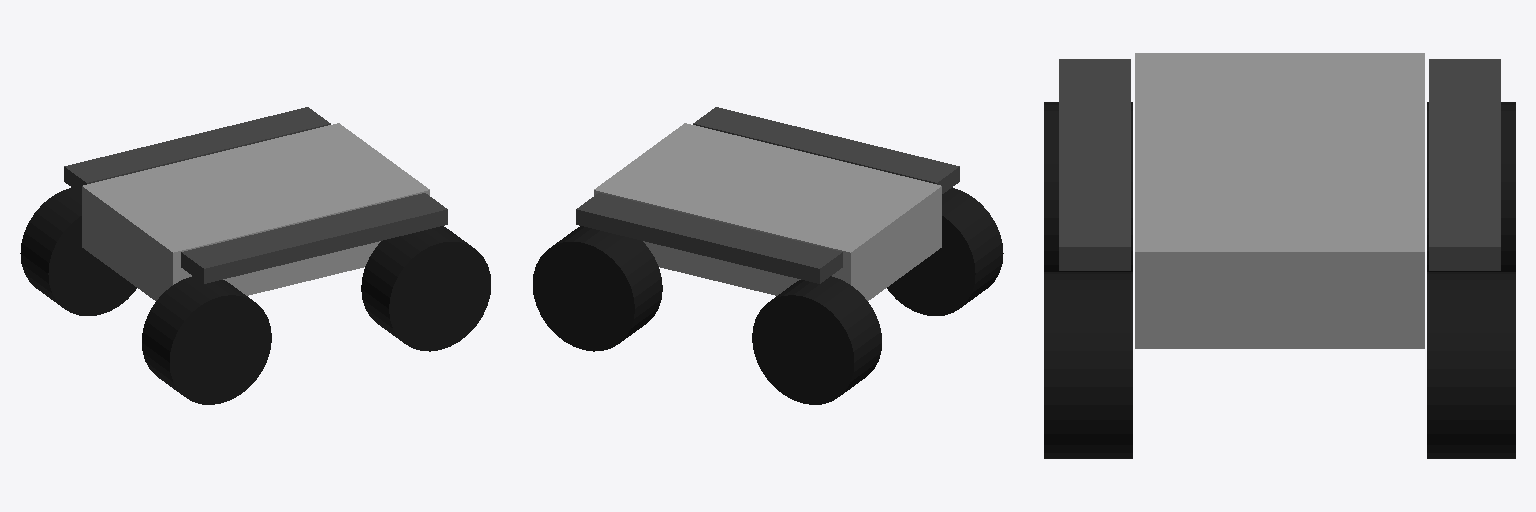
The robot description file, URDF, robot "four_wheeled_robot":
<?xml version="1.0" ?>
<!-- =================================================================================== -->
<!-- |    This document was autogenerated by xacro from rover_model.xacro              | -->
<!-- |    EDITING THIS FILE BY HAND IS NOT RECOMMENDED                                 | -->
<!-- =================================================================================== -->
<robot author="Aleksandra Grzybek" name="four_wheeled_robot">
  <!-- Converted from rover_model.sdf -->
  <!-- CHASSIS -->
  <!-- Materials -->
  <material name="wheel_mat">
    <color rgba="0.1490196 0.1490196 0.1490196 1.0"/>
  </material>
  <material name="subchassis_mat">
    <color rgba="0.3176471 0.3176471 0.3176471 1.0"/>
  </material>
  <material name="chassis_mat">
    <color rgba="0.6431373 0.6431373 0.6431373 1.0"/>
  </material>
  <link name="chassis">
    <inertial>
      <origin rpy="0 0 0" xyz="0 0 0.41000000000000003"/>
      <mass value="20.0"/>
      <inertia ixx="0.41791666666666677" ixy="0" ixz="0" iyy="1.6560416666666666" iyz="0" izz="1.4670833333333333"/>
    </inertial>
    <visual name="body_visual">
      <material name="chassis_mat"/>
      <origin rpy="0 0 0" xyz="0 0 0.41000000000000003"/>
      <geometry>
        <box size="1.055 0.65 0.24"/>
      </geometry>
    </visual>
    <collision name="body_collision">
      <origin rpy="0 0 0" xyz="0 0 0.41000000000000003"/>
      <geometry>
        <box size="1.055 0.65 0.24"/>
      </geometry>
    </collision>
  </link>
  <!-- LEFT SUBCHASSIS -->
  <link name="left_subchassis">
    <inertial>
      <origin rpy="0 0 0" xyz="0 0.41600000000000004 0.5"/>
      <mass value="6.0"/>
      <inertia ixx="0.0036" ixy="0" ixz="0" iyy="0.3546" iyz="0" izz="0.3546"/>
    </inertial>
    <visual name="left_rail_visual">
      <material name="subchassis_mat"/>
      <origin rpy="0 0 0" xyz="0 0.41600000000000004 0.5"/>
      <geometry>
        <box size="1.0 0.162 0.06"/>
      </geometry>
    </visual>
    <collision name="left_rail_collision">
      <origin rpy="0 0 0" xyz="0 0.41600000000000004 0.5"/>
      <geometry>
        <box size="1.0 0.162 0.06"/>
      </geometry>
    </collision>
  </link>
  <!-- RIGHT SUBCHASSIS -->
  <link name="right_subchassis">
    <inertial>
      <origin rpy="0 0 0" xyz="0 -0.41600000000000004 0.5"/>
      <mass value="6.0"/>
      <inertia ixx="0.0036" ixy="0" ixz="0" iyy="0.3546" iyz="0" izz="0.3546"/>
    </inertial>
    <visual name="right_rail_visual">
      <material name="subchassis_mat"/>
      <origin rpy="0 0 0" xyz="0 -0.41600000000000004 0.5"/>
      <geometry>
        <box size="1.0 0.162 0.06"/>
      </geometry>
    </visual>
    <collision name="right_rail_collision">
      <origin rpy="0 0 0" xyz="0 -0.41600000000000004 0.5"/>
      <geometry>
        <box size="1.0 0.162 0.06"/>
      </geometry>
    </collision>
  </link>
  <!-- VIRTUAL SUSPENSION DIFF -->
  <link name="suspension_diff">
    <inertial>
      <mass value="0.001"/>
      <inertia ixx="8.33333333333e-07" ixy="0" ixz="0" iyy="8.33333333333e-07" iyz="0" izz="8.33333333333e-07"/>
    </inertial>
  </link>
  <!-- WHEELS -->
  <link name="left_front_wheel">
    <inertial>
      <mass value="7.0"/>
      <inertia ixx="0.062" ixy="0" ixz="0" iyy="0.093" iyz="0" izz="0.062"/>
    </inertial>
    <visual>
      <material name="wheel_mat"/>
      <origin rpy="1.5708 0 0" xyz="0 0 0"/>
      <geometry>
        <cylinder length="0.198" radius="0.21"/>
      </geometry>
    </visual>
    <collision>
      <origin rpy="1.5708 0 0" xyz="0 0 0"/>
      <geometry>
        <cylinder length="0.198" radius="0.21"/>
      </geometry>
    </collision>
  </link>
  <link name="left_rear_wheel">
    <inertial>
      <mass value="7.0"/>
      <inertia ixx="0.062" ixy="0" ixz="0" iyy="0.093" iyz="0" izz="0.062"/>
    </inertial>
    <visual>
      <material name="wheel_mat"/>
      <origin rpy="1.5708 0 0" xyz="0 0 0"/>
      <geometry>
        <cylinder length="0.198" radius="0.21"/>
      </geometry>
    </visual>
    <collision>
      <origin rpy="1.5708 0 0" xyz="0 0 0"/>
      <geometry>
        <cylinder length="0.198" radius="0.21"/>
      </geometry>
    </collision>
  </link>
  <link name="right_front_wheel">
    <inertial>
      <mass value="7.0"/>
      <inertia ixx="0.062" ixy="0" ixz="0" iyy="0.093" iyz="0" izz="0.062"/>
    </inertial>
    <visual>
      <material name="wheel_mat"/>
      <origin rpy="1.5708 0 0" xyz="0 0 0"/>
      <geometry>
        <cylinder length="0.198" radius="0.21"/>
      </geometry>
    </visual>
    <collision>
      <origin rpy="1.5708 0 0" xyz="0 0 0"/>
      <geometry>
        <cylinder length="0.198" radius="0.21"/>
      </geometry>
    </collision>
  </link>
  <link name="right_rear_wheel">
    <inertial>
      <mass value="7.0"/>
      <inertia ixx="0.062" ixy="0" ixz="0" iyy="0.093" iyz="0" izz="0.062"/>
    </inertial>
    <visual>
      <material name="wheel_mat"/>
      <origin rpy="1.5708 0 0" xyz="0 0 0"/>
      <geometry>
        <cylinder length="0.198" radius="0.21"/>
      </geometry>
    </visual>
    <collision>
      <origin rpy="1.5708 0 0" xyz="0 0 0"/>
      <geometry>
        <cylinder length="0.198" radius="0.21"/>
      </geometry>
    </collision>
  </link>
  <!-- JOINTS -->
  <joint name="suspension_diff_joint" type="continuous">
    <parent link="chassis"/>
    <child link="suspension_diff"/>
    <axis xyz="0 1 0"/>
  </joint>
  <joint name="left_subchassis_hinge" type="continuous">
    <parent link="suspension_diff"/>
    <child link="left_subchassis"/>
    <axis xyz="0 1 0"/>
  </joint>
  <joint name="right_subchassis_hinge" type="continuous">
    <parent link="suspension_diff"/>
    <child link="right_subchassis"/>
    <axis xyz="0 1 0"/>
  </joint>
  <joint name="left_front_wheel_joint" type="continuous">
    <parent link="left_subchassis"/>
    <child link="left_front_wheel"/>
    <origin rpy="0 0 0" xyz="0.45 0.43 0.213"/>
    <axis xyz="0 1 0"/>
  </joint>
  <joint name="left_rear_wheel_joint" type="continuous">
    <parent link="left_subchassis"/>
    <child link="left_rear_wheel"/>
    <origin rpy="0 0 0" xyz="-0.45 0.43 0.213"/>
    <axis xyz="0 1 0"/>
  </joint>
  <joint name="right_front_wheel_joint" type="continuous">
    <parent link="right_subchassis"/>
    <child link="right_front_wheel"/>
    <origin rpy="0 0 0" xyz="0.45 -0.43 0.213"/>
    <axis xyz="0 1 0"/>
  </joint>
  <joint name="right_rear_wheel_joint" type="continuous">
    <parent link="right_subchassis"/>
    <child link="right_rear_wheel"/>
    <origin rpy="0 0 0" xyz="-0.45 -0.43 0.213"/>
    <axis xyz="0 1 0"/>
  </joint>
</robot>

--- Facts derived from the render (not from the file) ---
The picture shows the robot from 3 angles, left to right: view 1: azimuth 30°, elevation 25°; view 2: azimuth 150°, elevation 25°; view 3: azimuth 270°, elevation 25°; orthographic projection.
Robot: four_wheeled_robot — 8 links, 7 joints (7 continuous); root link chassis; default pose: every joint at zero.
Visible links, largest first — view 1: chassis, right_rear_wheel, right_front_wheel, right_subchassis, left_rear_wheel, left_subchassis; view 2: chassis, left_rear_wheel, left_front_wheel, left_subchassis, right_rear_wheel, right_subchassis; view 3: chassis, left_front_wheel, right_front_wheel, left_subchassis, right_subchassis, left_rear_wheel, right_rear_wheel.
Boxes of the visible links, box(x1,y1,x2,y2) form: chassis: box(82, 123, 429, 300); right_rear_wheel: box(142, 276, 271, 404); right_front_wheel: box(361, 226, 490, 351); right_subchassis: box(181, 193, 447, 283); left_rear_wheel: box(20, 187, 136, 315); left_subchassis: box(64, 107, 330, 193); chassis: box(594, 123, 941, 300); left_rear_wheel: box(752, 276, 881, 404); left_front_wheel: box(533, 226, 662, 351); left_subchassis: box(576, 193, 842, 283); right_rear_wheel: box(887, 187, 1003, 315); right_subchassis: box(693, 107, 959, 193); chassis: box(1135, 53, 1424, 348); left_front_wheel: box(1427, 272, 1515, 458); right_front_wheel: box(1044, 272, 1132, 458); left_subchassis: box(1429, 59, 1500, 270); right_subchassis: box(1059, 59, 1130, 270); left_rear_wheel: box(1427, 102, 1515, 271); right_rear_wheel: box(1044, 102, 1132, 271).
Bounding box of the posed robot: 1.32 × 1.06 × 0.527 m (x, y, z).
Geometry: primitives only (box / cylinder / sphere), no mesh files.
